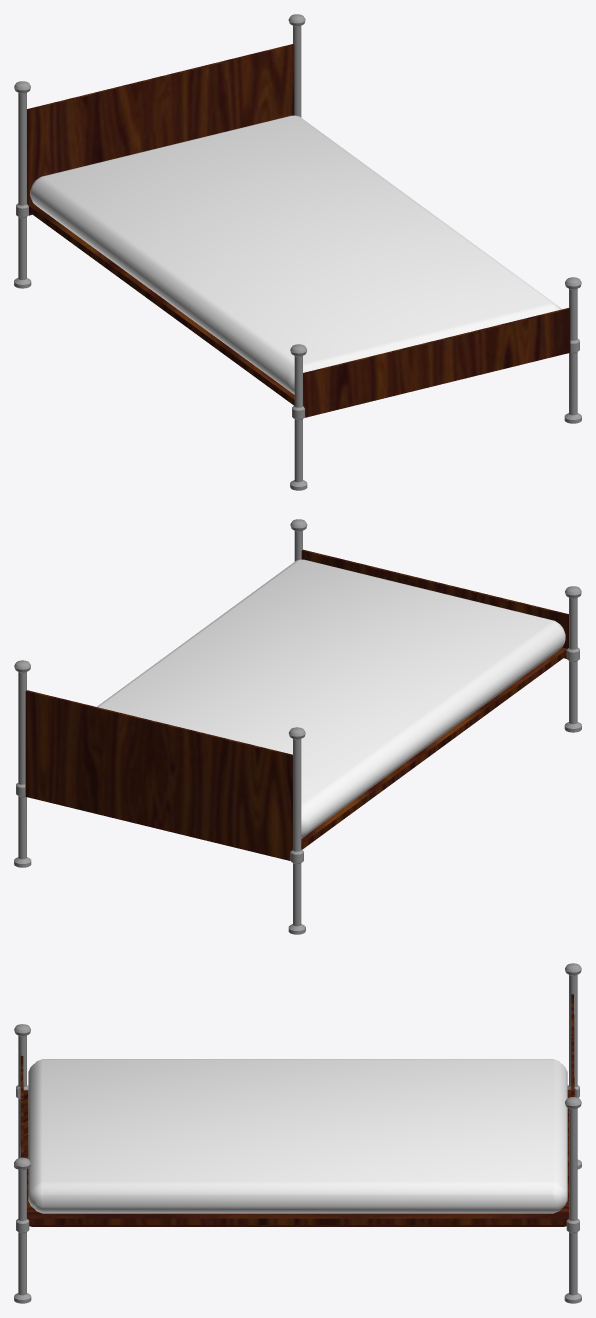
File: Bed.obj
3 renders of one model, top to bottom at view 1: azimuth 30°, elevation 25°; view 2: azimuth 150°, elevation 25°; view 3: azimuth 270°, elevation 25°, orthographic.
Parts seen in each view (by area): view 1: Mesh; view 2: Mesh; view 3: Mesh.
Boxes of the visible parts, left/top/right/bottom form: Mesh: left=14, top=14, right=581, bottom=490; Mesh: left=14, top=519, right=581, bottom=934; Mesh: left=14, top=963, right=581, bottom=1303.
Bounding box in the file's own units: 2.09 × 1.39 × 3.56.
